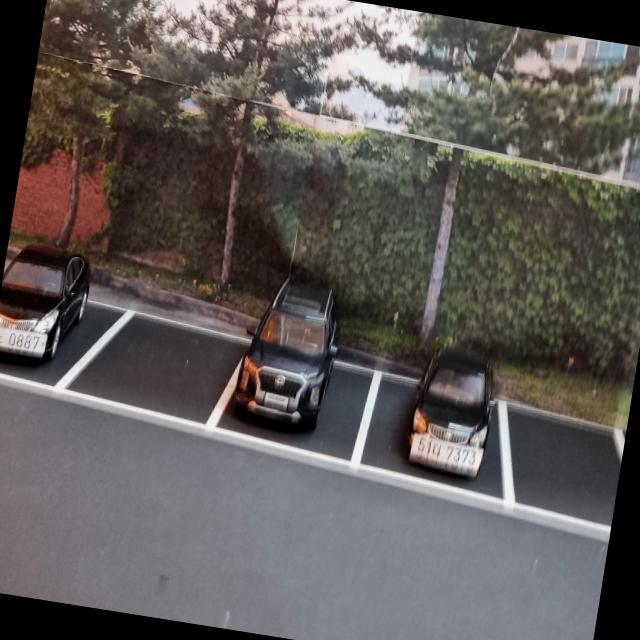car: (226, 276, 372, 460), (385, 323, 517, 498), (0, 235, 95, 381)
free: (67, 311, 246, 439), (484, 401, 628, 540)
